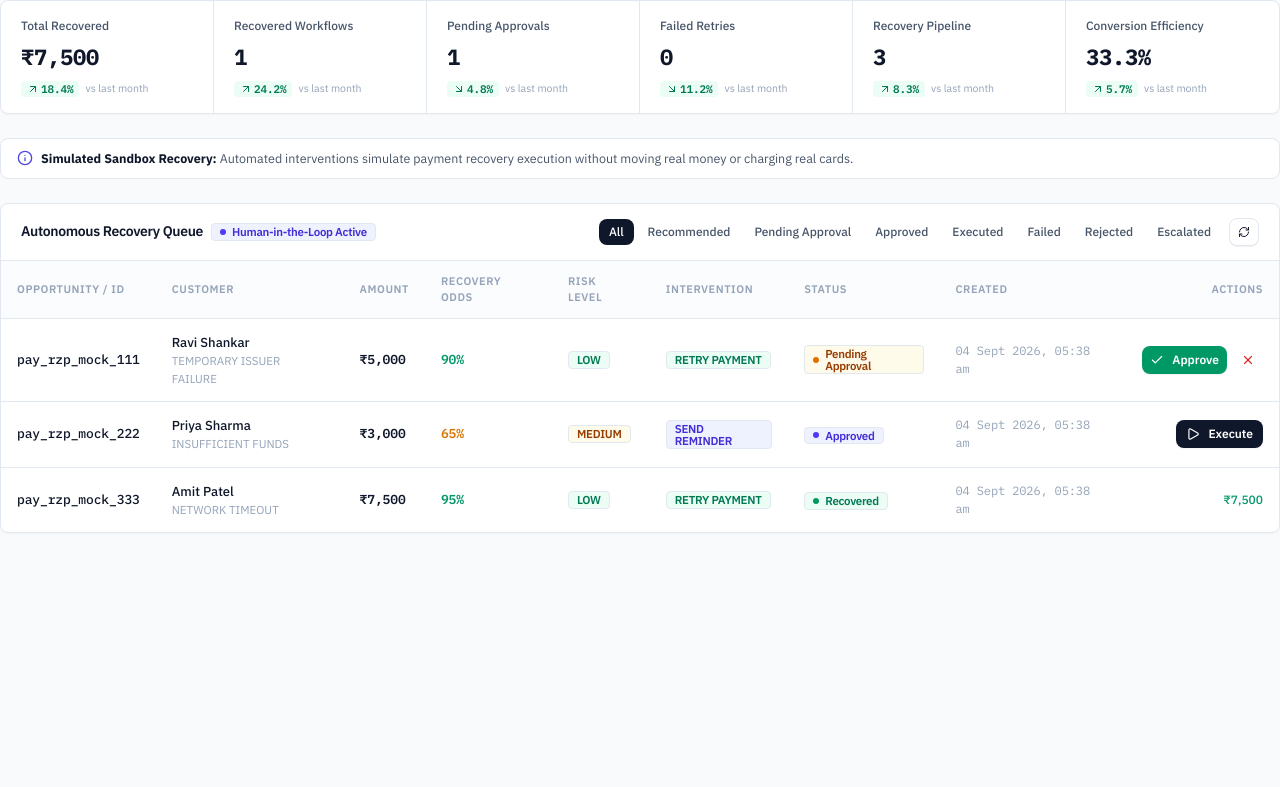
Test case: Recovery Dashboard UI Component (Milestone 6 Step 10B Hardened) › displays AI diagnosis with 'AI Recommendation — Advisory Only' header
Click the text "Ravi Shankar": (211, 342) [172,334,250,351]
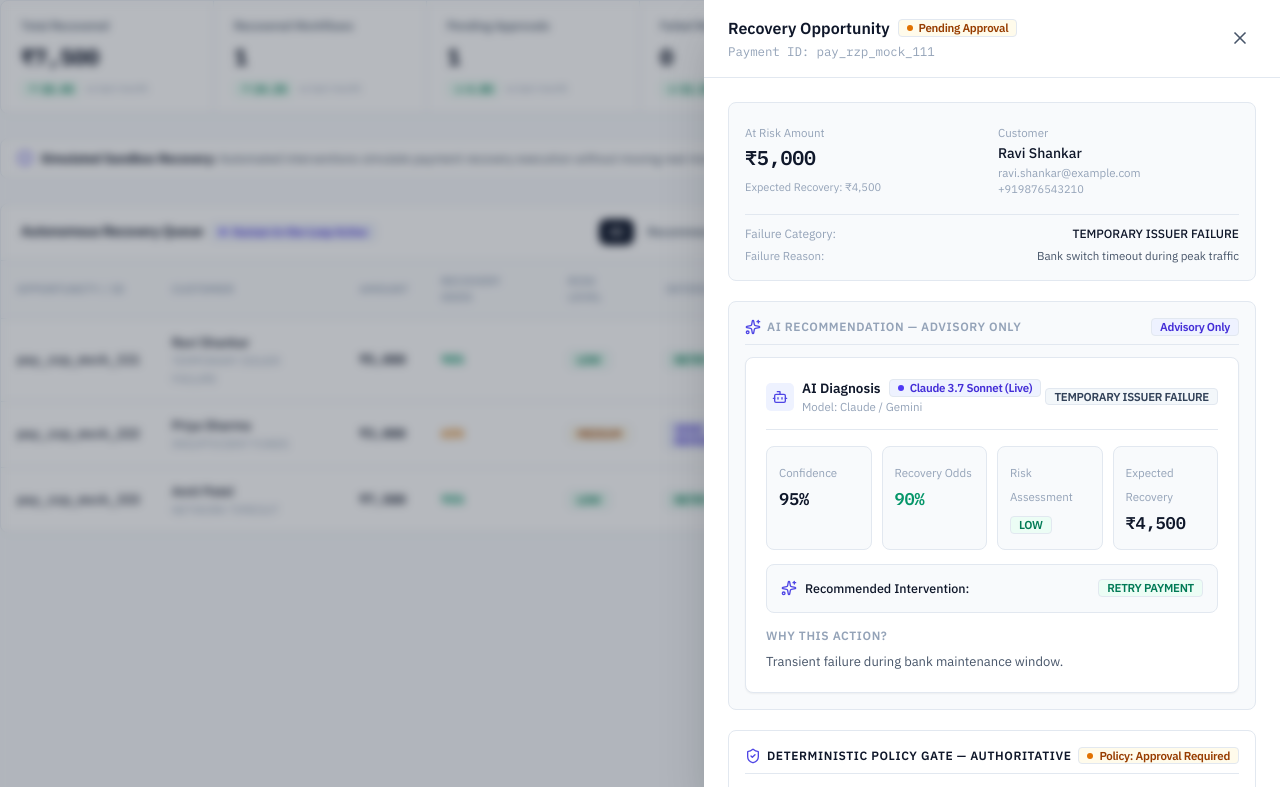
Expected: the text "AI Recommendation — Advisory Only" is shown, [767,318,1021,336]
